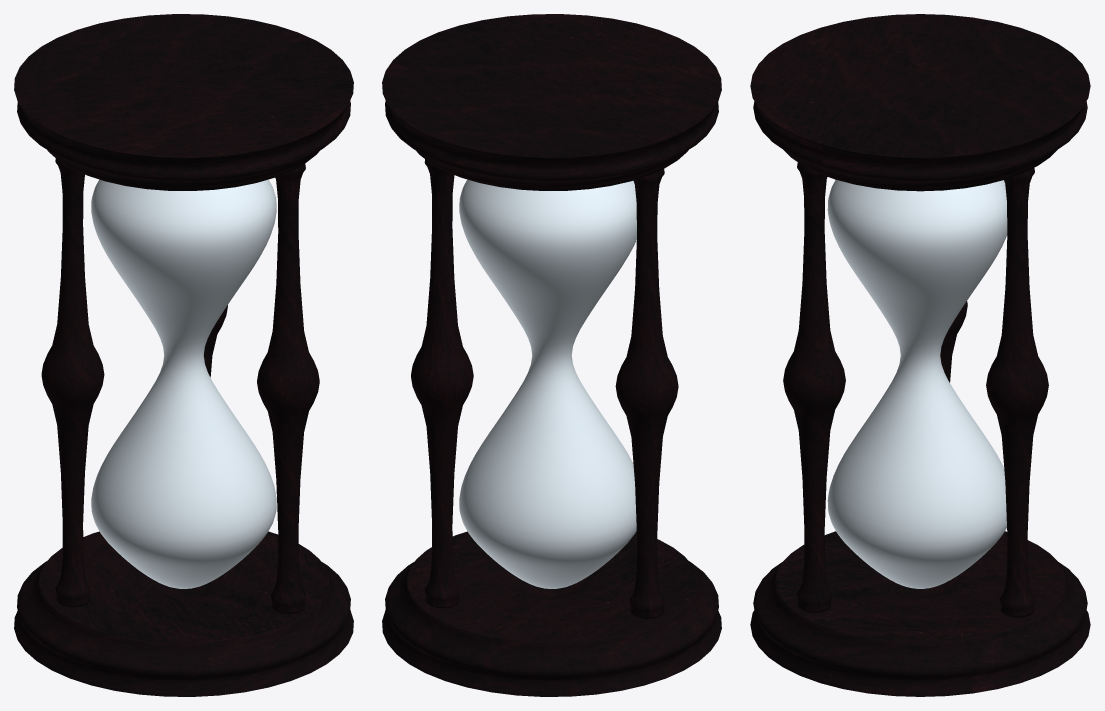
Rendered from exp.fbx.
3 renders of one model, left to right at view 1: azimuth 30°, elevation 25°; view 2: azimuth 150°, elevation 25°; view 3: azimuth 270°, elevation 25°, orthographic.
Visible parts, largest first — view 1: vidro, base1, base2, colunas2, colunas; view 2: vidro, base1, base2, colunas, colunas1; view 3: vidro, base1, base2, colunas1, colunas2, colunas.
Boxes of the visible parts, x1,y1,x2,y2 form: vidro: [91, 179, 276, 588]; base1: [14, 14, 353, 190]; base2: [14, 531, 353, 696]; colunas2: [257, 164, 319, 614]; colunas: [41, 158, 104, 607]; vidro: [459, 179, 636, 588]; base1: [382, 14, 721, 190]; base2: [382, 531, 721, 696]; colunas: [615, 169, 678, 618]; colunas1: [411, 159, 473, 608]; vidro: [827, 180, 1007, 588]; base1: [750, 14, 1090, 191]; base2: [750, 531, 1090, 696]; colunas1: [986, 168, 1048, 617]; colunas2: [783, 162, 845, 612]; colunas: [940, 301, 967, 382].
Bounding box in the file's own units: 17.14 × 29.97 × 17.14.
